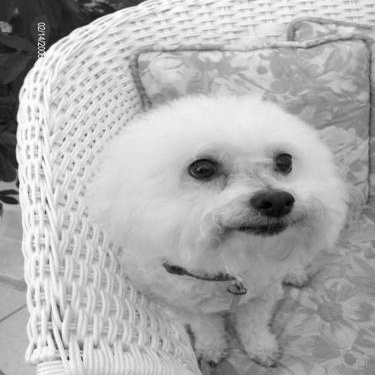dog: (71, 71, 354, 371)
